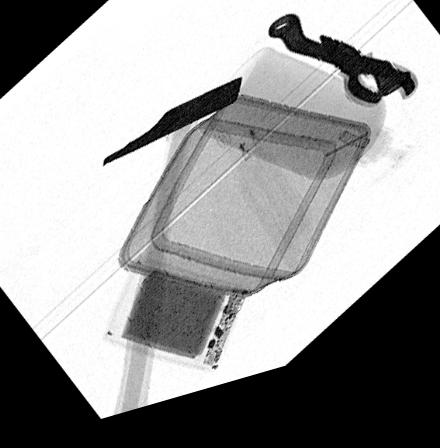Hammer: (102, 89, 242, 422)
Pliers: (319, 52, 416, 125)
Powerbank: (98, 265, 251, 387)
Wrench: (266, 30, 410, 120)
